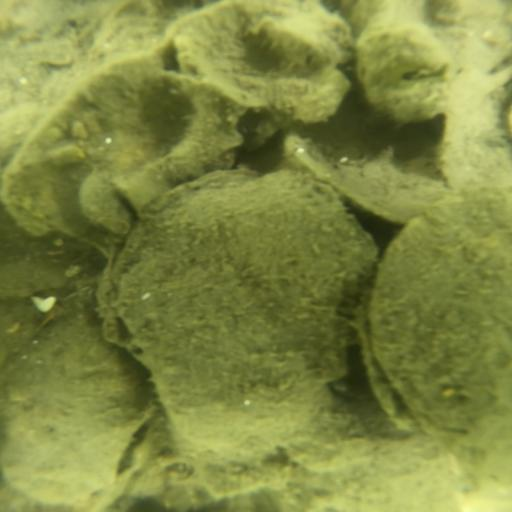Oyster-Closed: (1, 284, 156, 508), (75, 173, 142, 238)
Oyster-Open: (116, 165, 382, 453), (367, 196, 509, 509)
